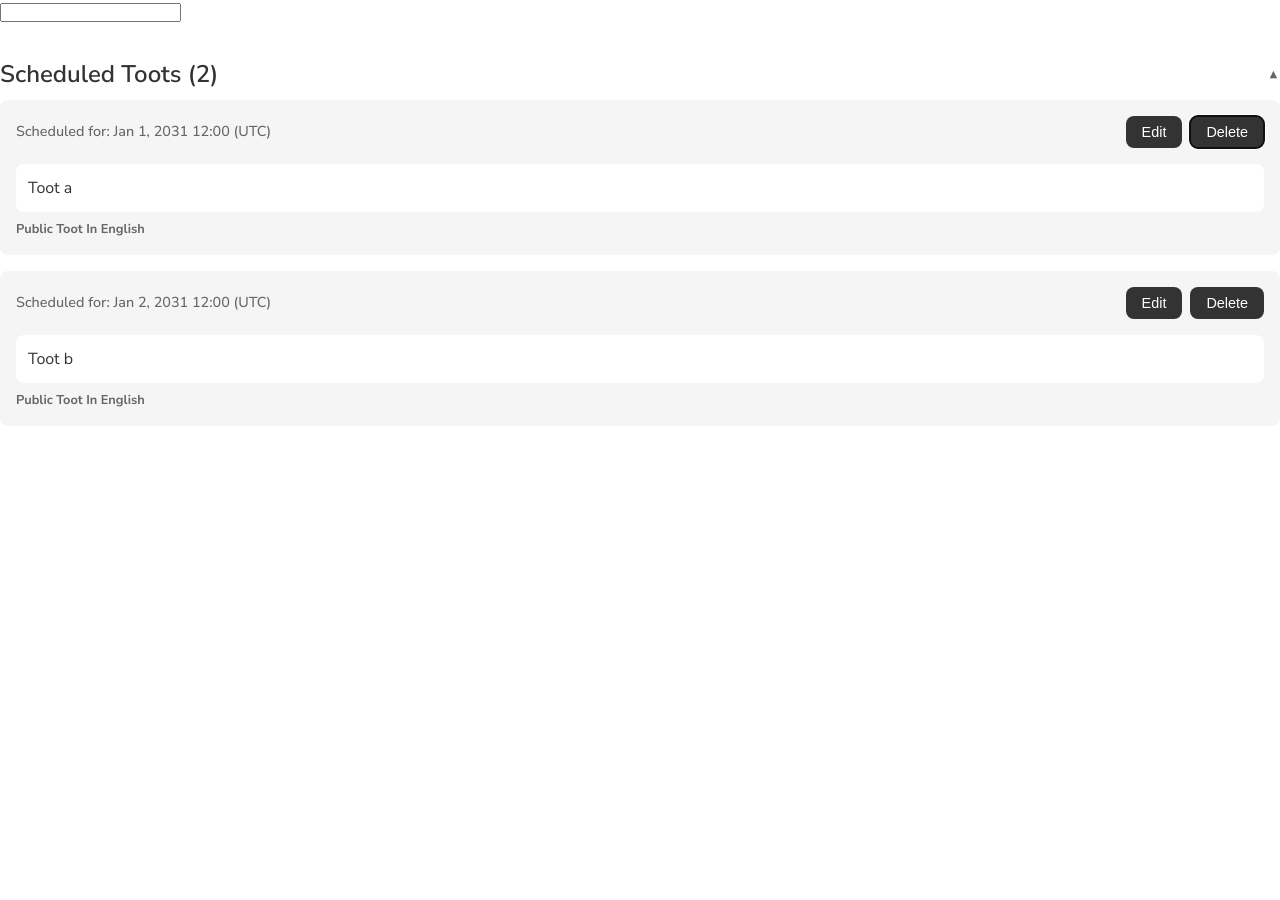
Scenario: ScheduledToots › with two toots › leaves focus where the user moved it while the deletion was running
Click the button with class "delete-button" in the row of "Scheduled for: Jan 1, 2031 12:00 (UTC)": (1227, 132) [1190,116,1264,148]
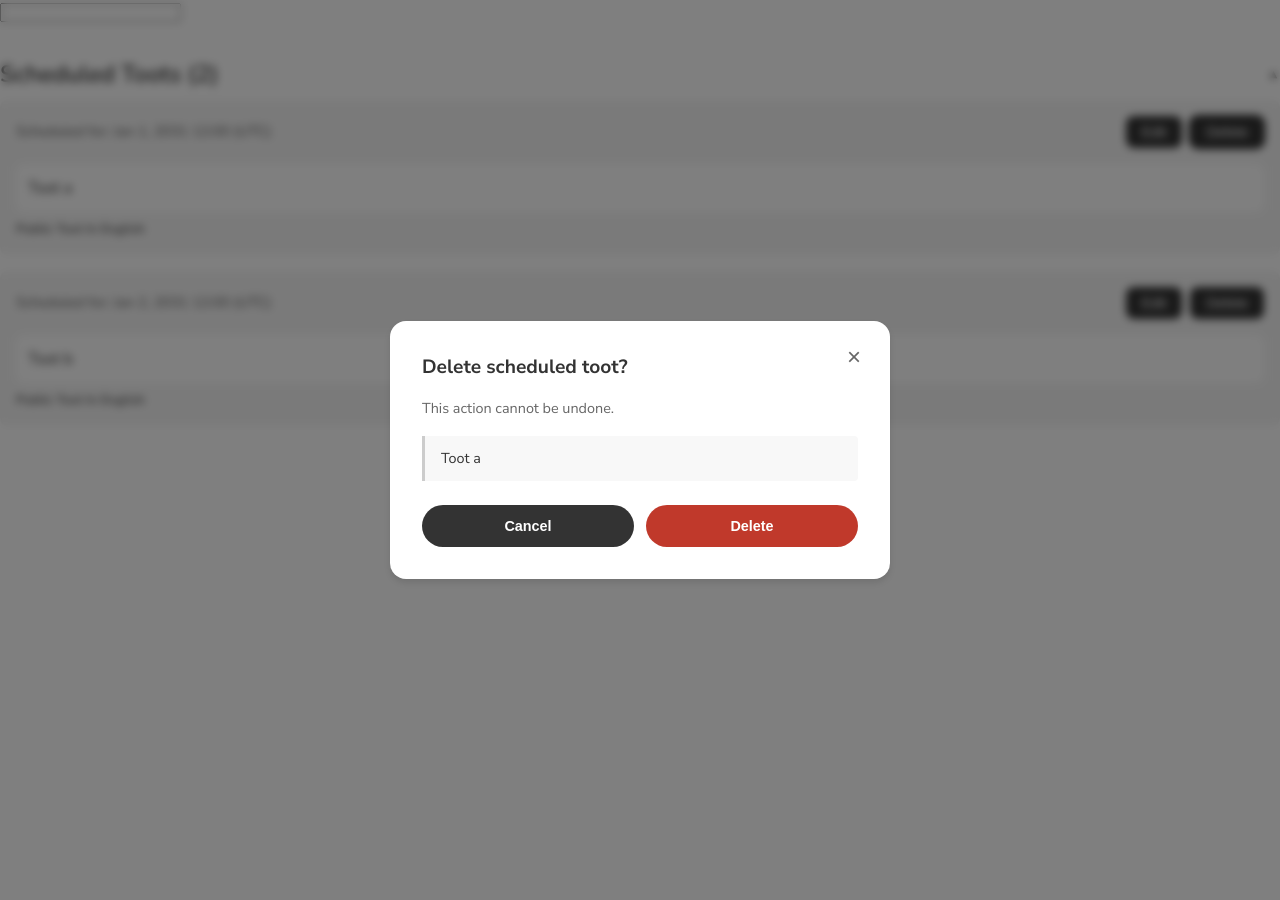
Click the button with class "btn-delete": (752, 526) [646,505,858,547]
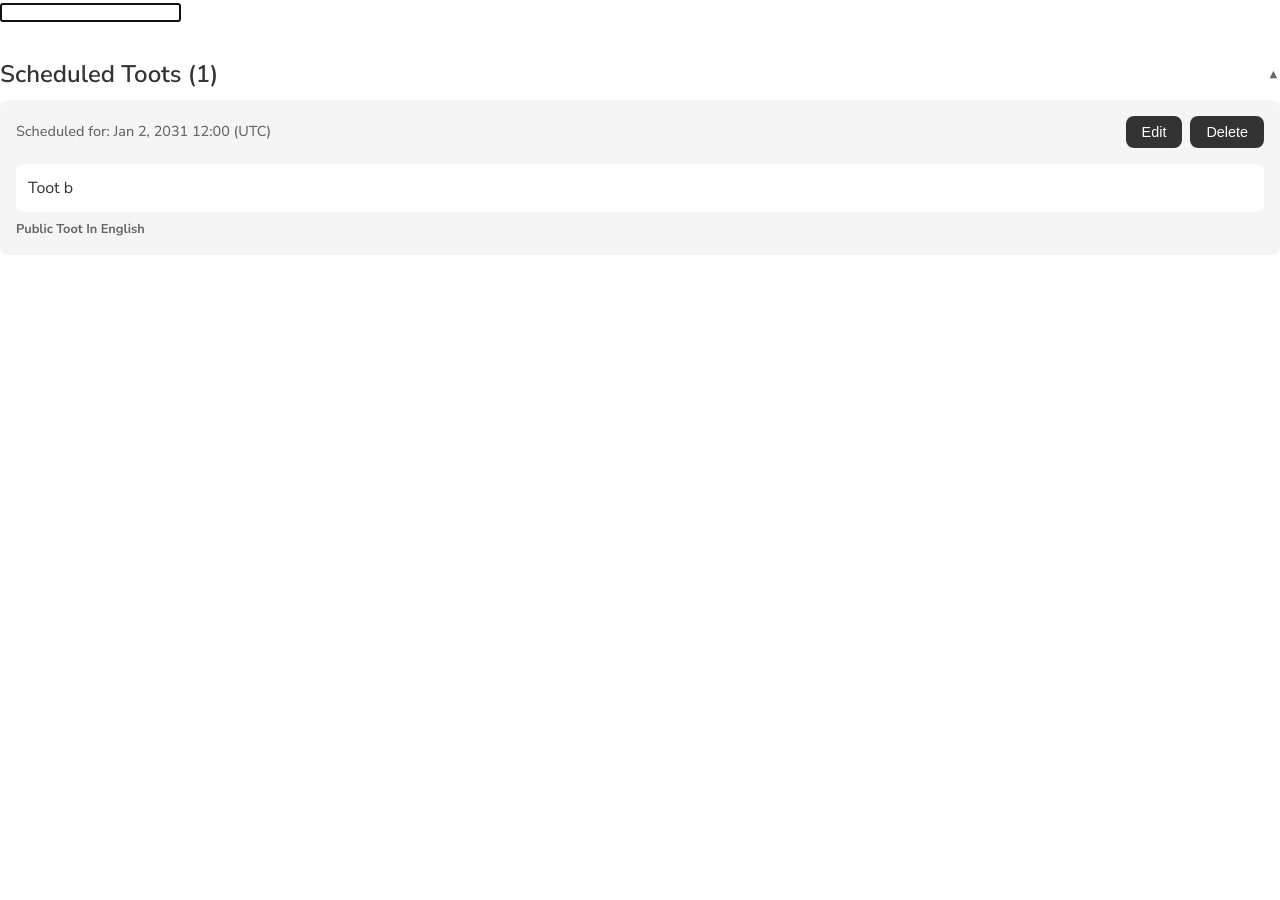
Result: the number of elements with class "toot-card" is 1 at [0,100,1279,255]
